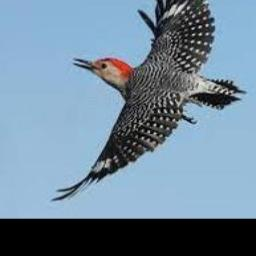Woodpecker: (49, 0, 247, 202)
